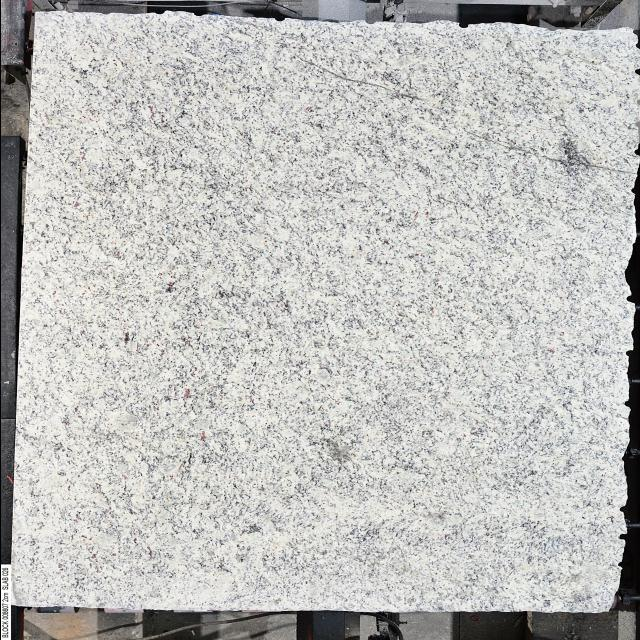chapa: (12, 12, 638, 611)
veio: (622, 294, 638, 304), (620, 398, 634, 408), (621, 348, 635, 358), (615, 532, 629, 540), (362, 20, 378, 26), (189, 12, 205, 18), (616, 504, 627, 512), (455, 22, 469, 28), (271, 18, 285, 22)
